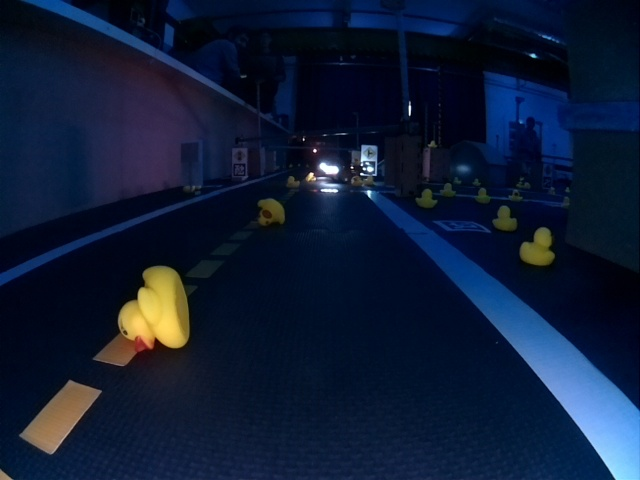Duckie: (117, 265, 190, 353), (523, 229, 555, 262), (257, 198, 284, 225), (494, 205, 518, 231), (416, 190, 432, 209), (475, 189, 485, 205), (306, 172, 316, 182), (286, 176, 296, 185), (351, 177, 360, 185), (428, 141, 437, 148)
QR code: (433, 219, 490, 232), (233, 165, 245, 176)
Traffic light: (311, 148, 320, 156)
